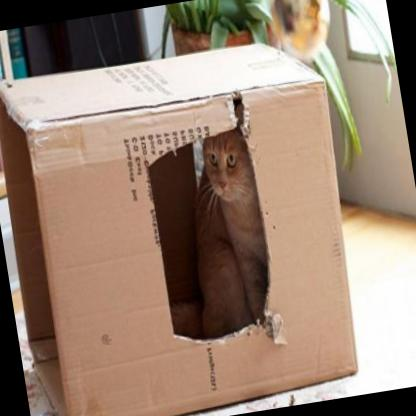box: (0, 15, 381, 416)
